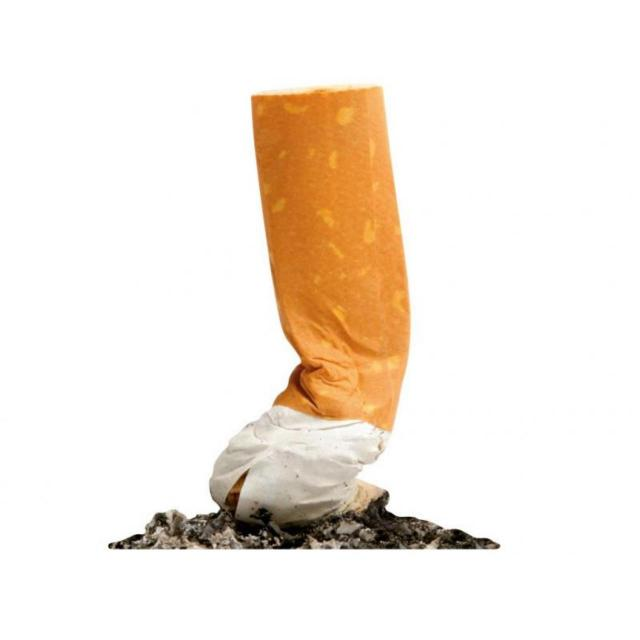cigarette: (209, 85, 410, 530)
